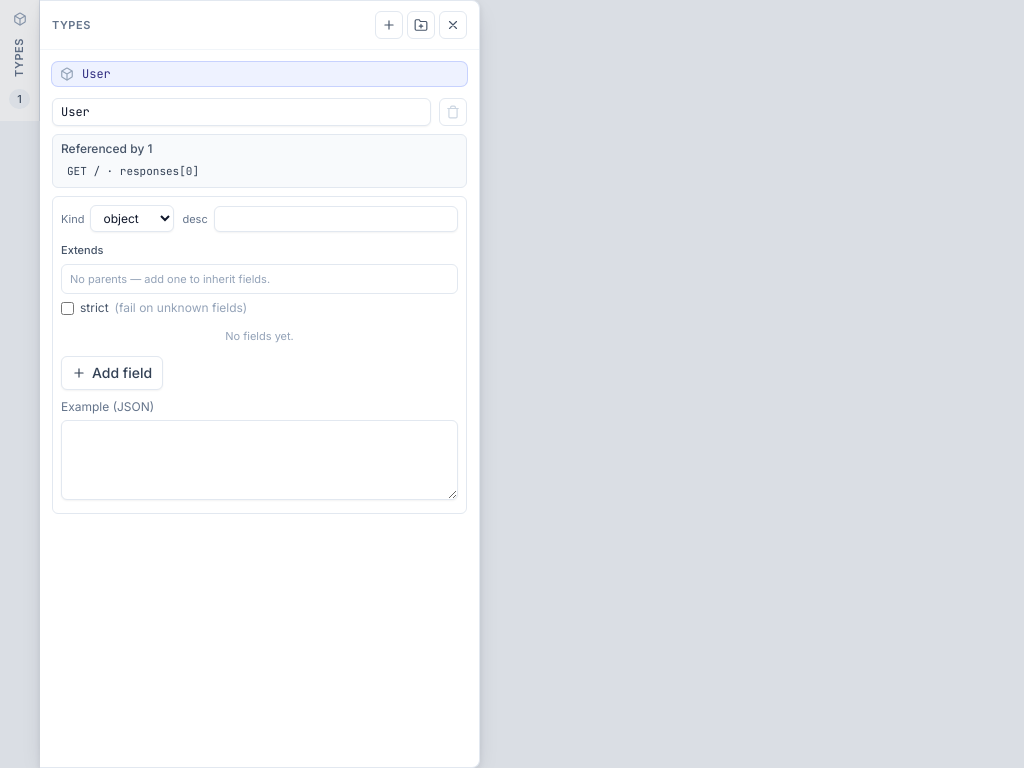
add and rename a type updates refs
Replace the text in the field named "Type name" with "Account": (242, 112) [52, 98, 431, 126]
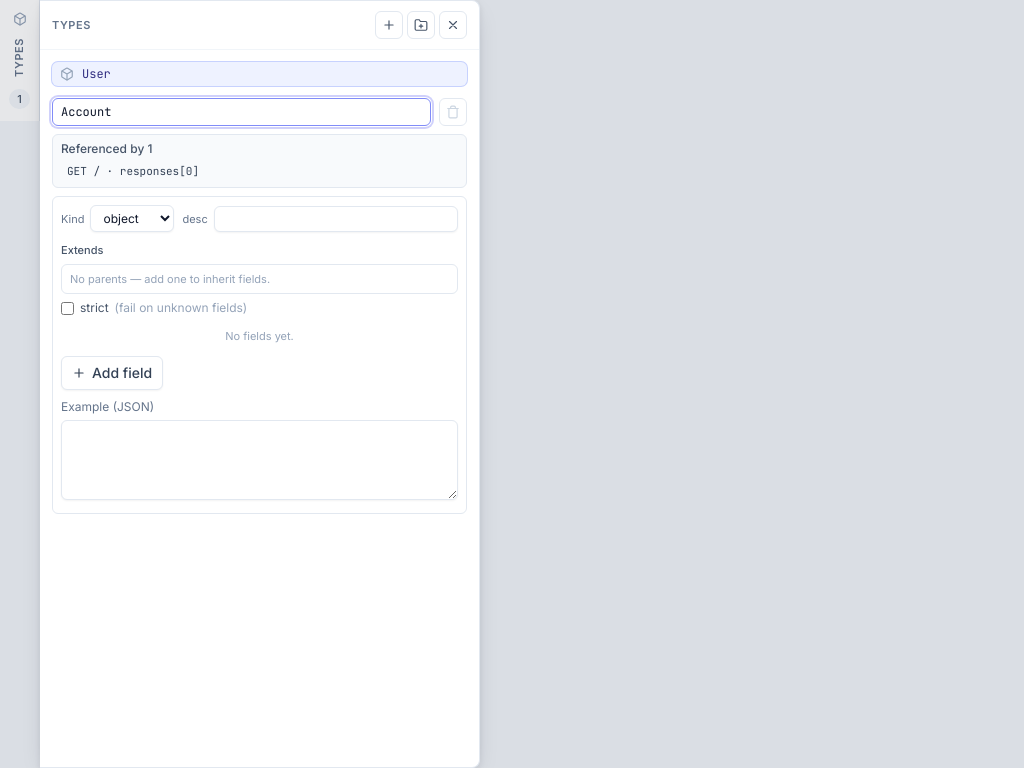
Press Tab
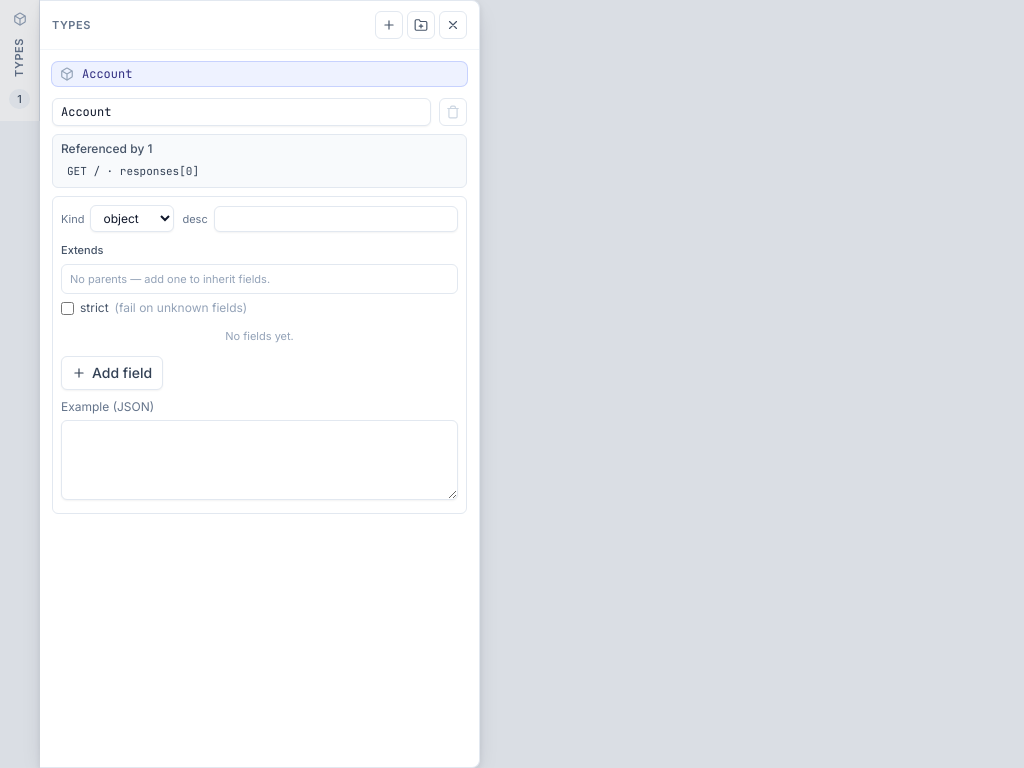
Expected: the text "Account" is shown, [82, 66, 132, 82]
